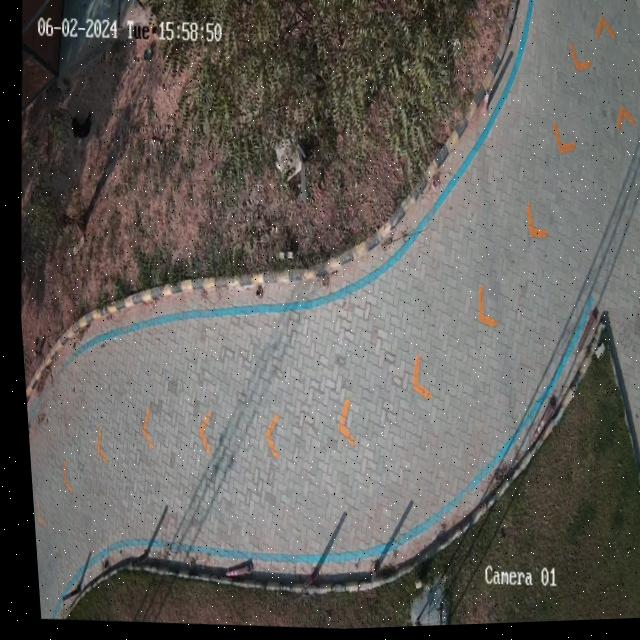No Car: (16, 0, 640, 631)
